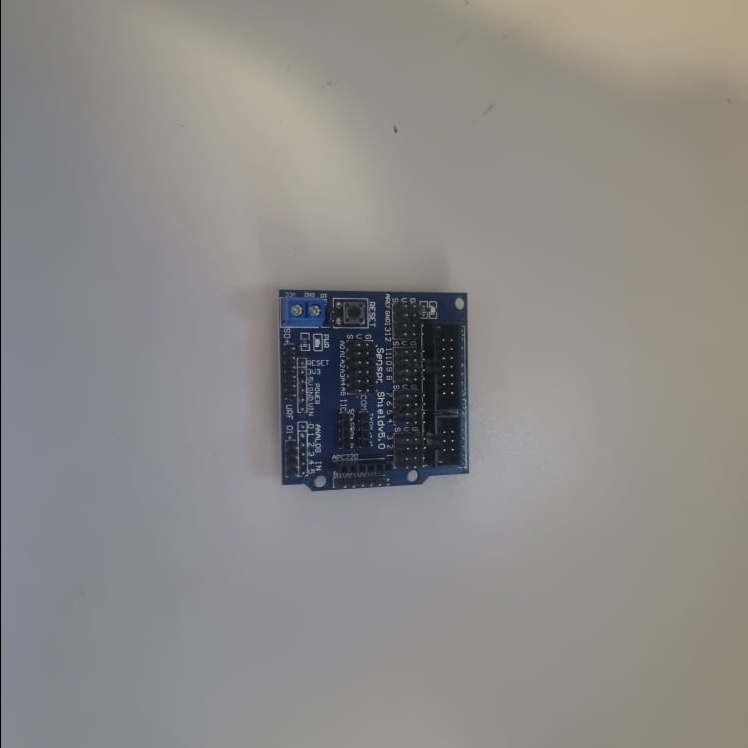5V EXPANSION: (275, 290, 470, 497)
